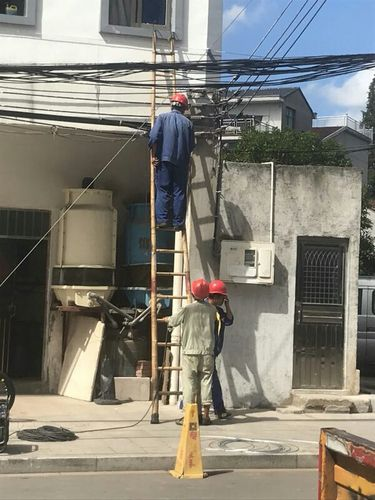未系安全绳的工作人员: (146, 92, 196, 232)
